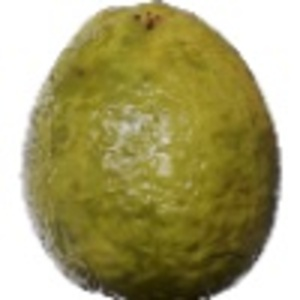goiaba: (13, 2, 286, 297)
